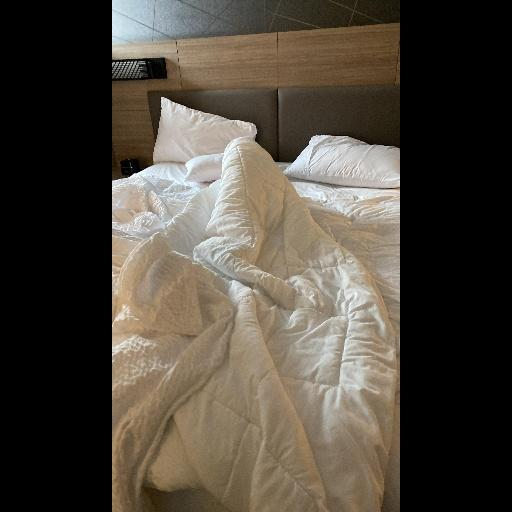Disorganized_pillow: (149, 94, 398, 189)
messy_bed: (107, 89, 400, 511)
